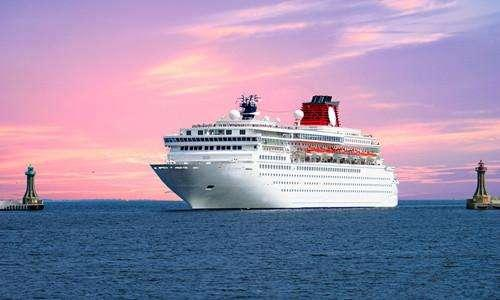youlun: (150, 90, 403, 211)
